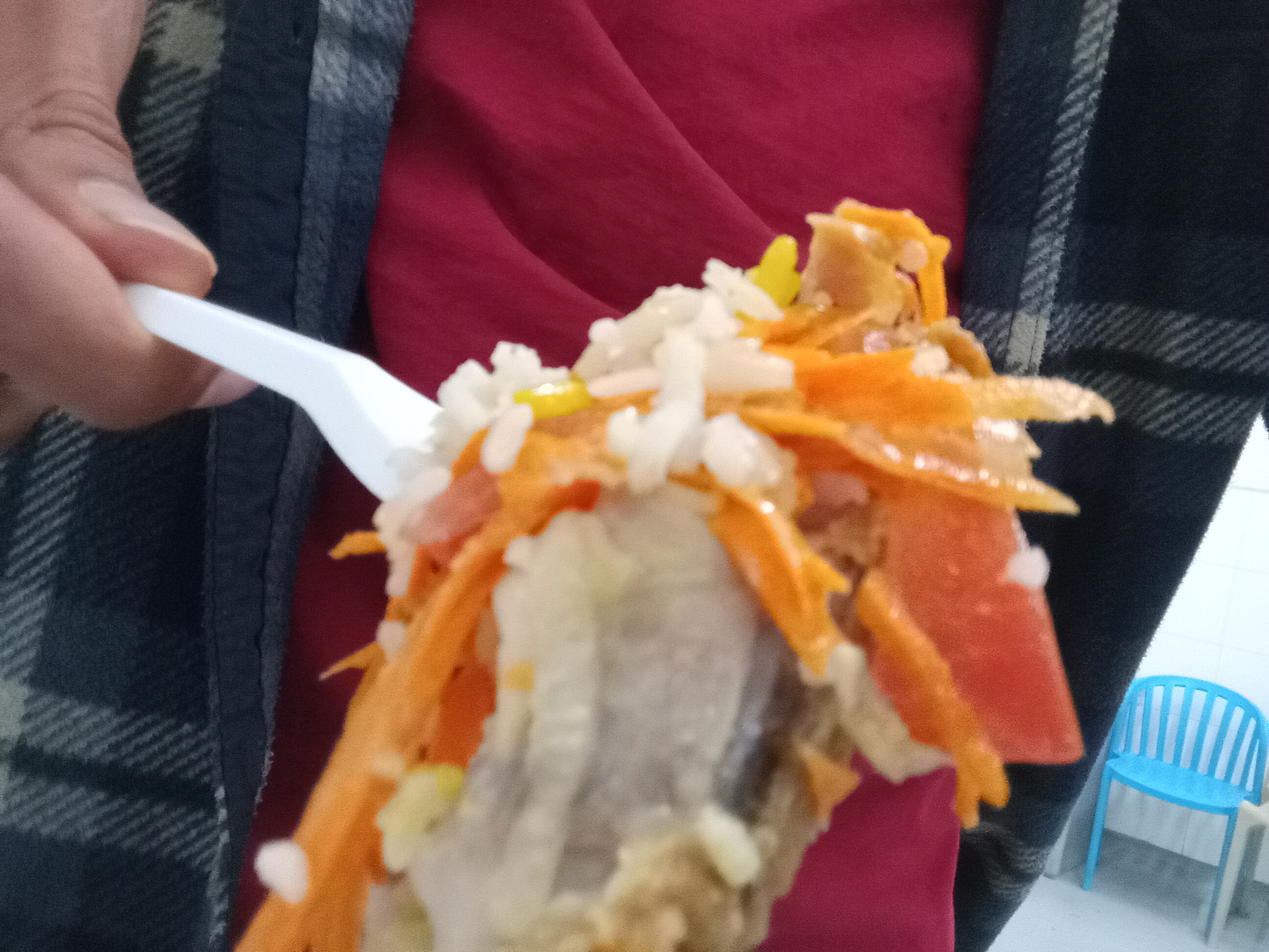Organico: (235, 199, 1115, 952)
